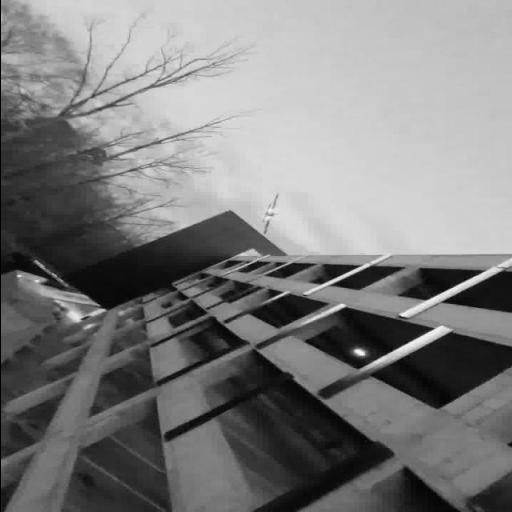uav: (252, 192, 284, 236)
